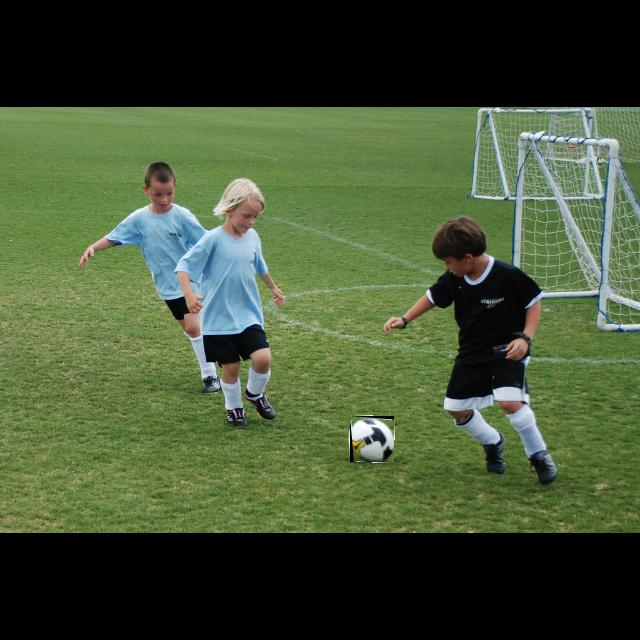Football: (350, 416, 394, 462)
